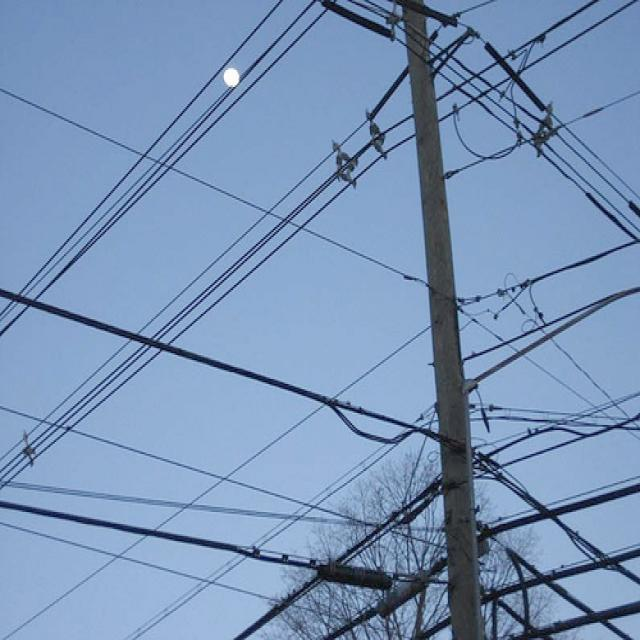pole: (394, 0, 480, 640)
wire: (1, 0, 639, 492), (8, 322, 429, 637), (0, 118, 369, 463), (0, 5, 333, 342), (0, 1, 317, 338), (0, 0, 287, 325), (0, 85, 429, 288), (331, 6, 640, 245), (132, 413, 435, 638), (1, 403, 444, 553), (0, 290, 424, 437), (366, 0, 640, 219), (0, 495, 447, 601), (489, 476, 640, 640), (499, 56, 640, 224), (467, 278, 640, 391), (438, 0, 608, 110), (447, 83, 640, 179), (459, 230, 639, 310)
